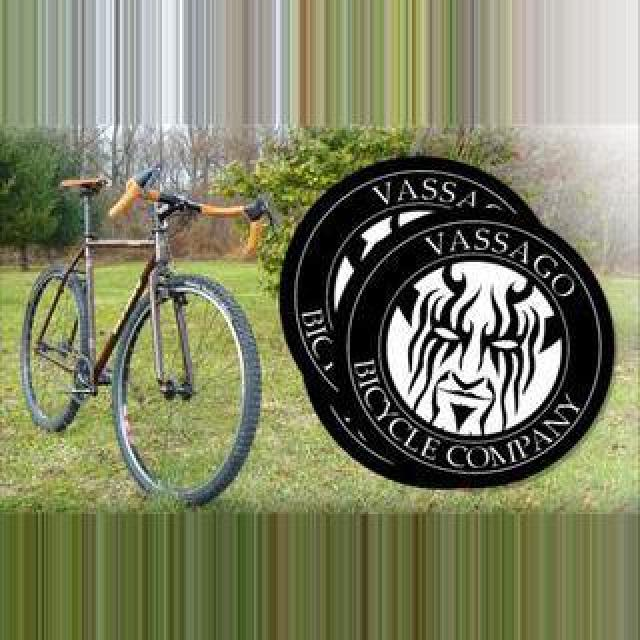Person: (21, 163, 273, 507)
